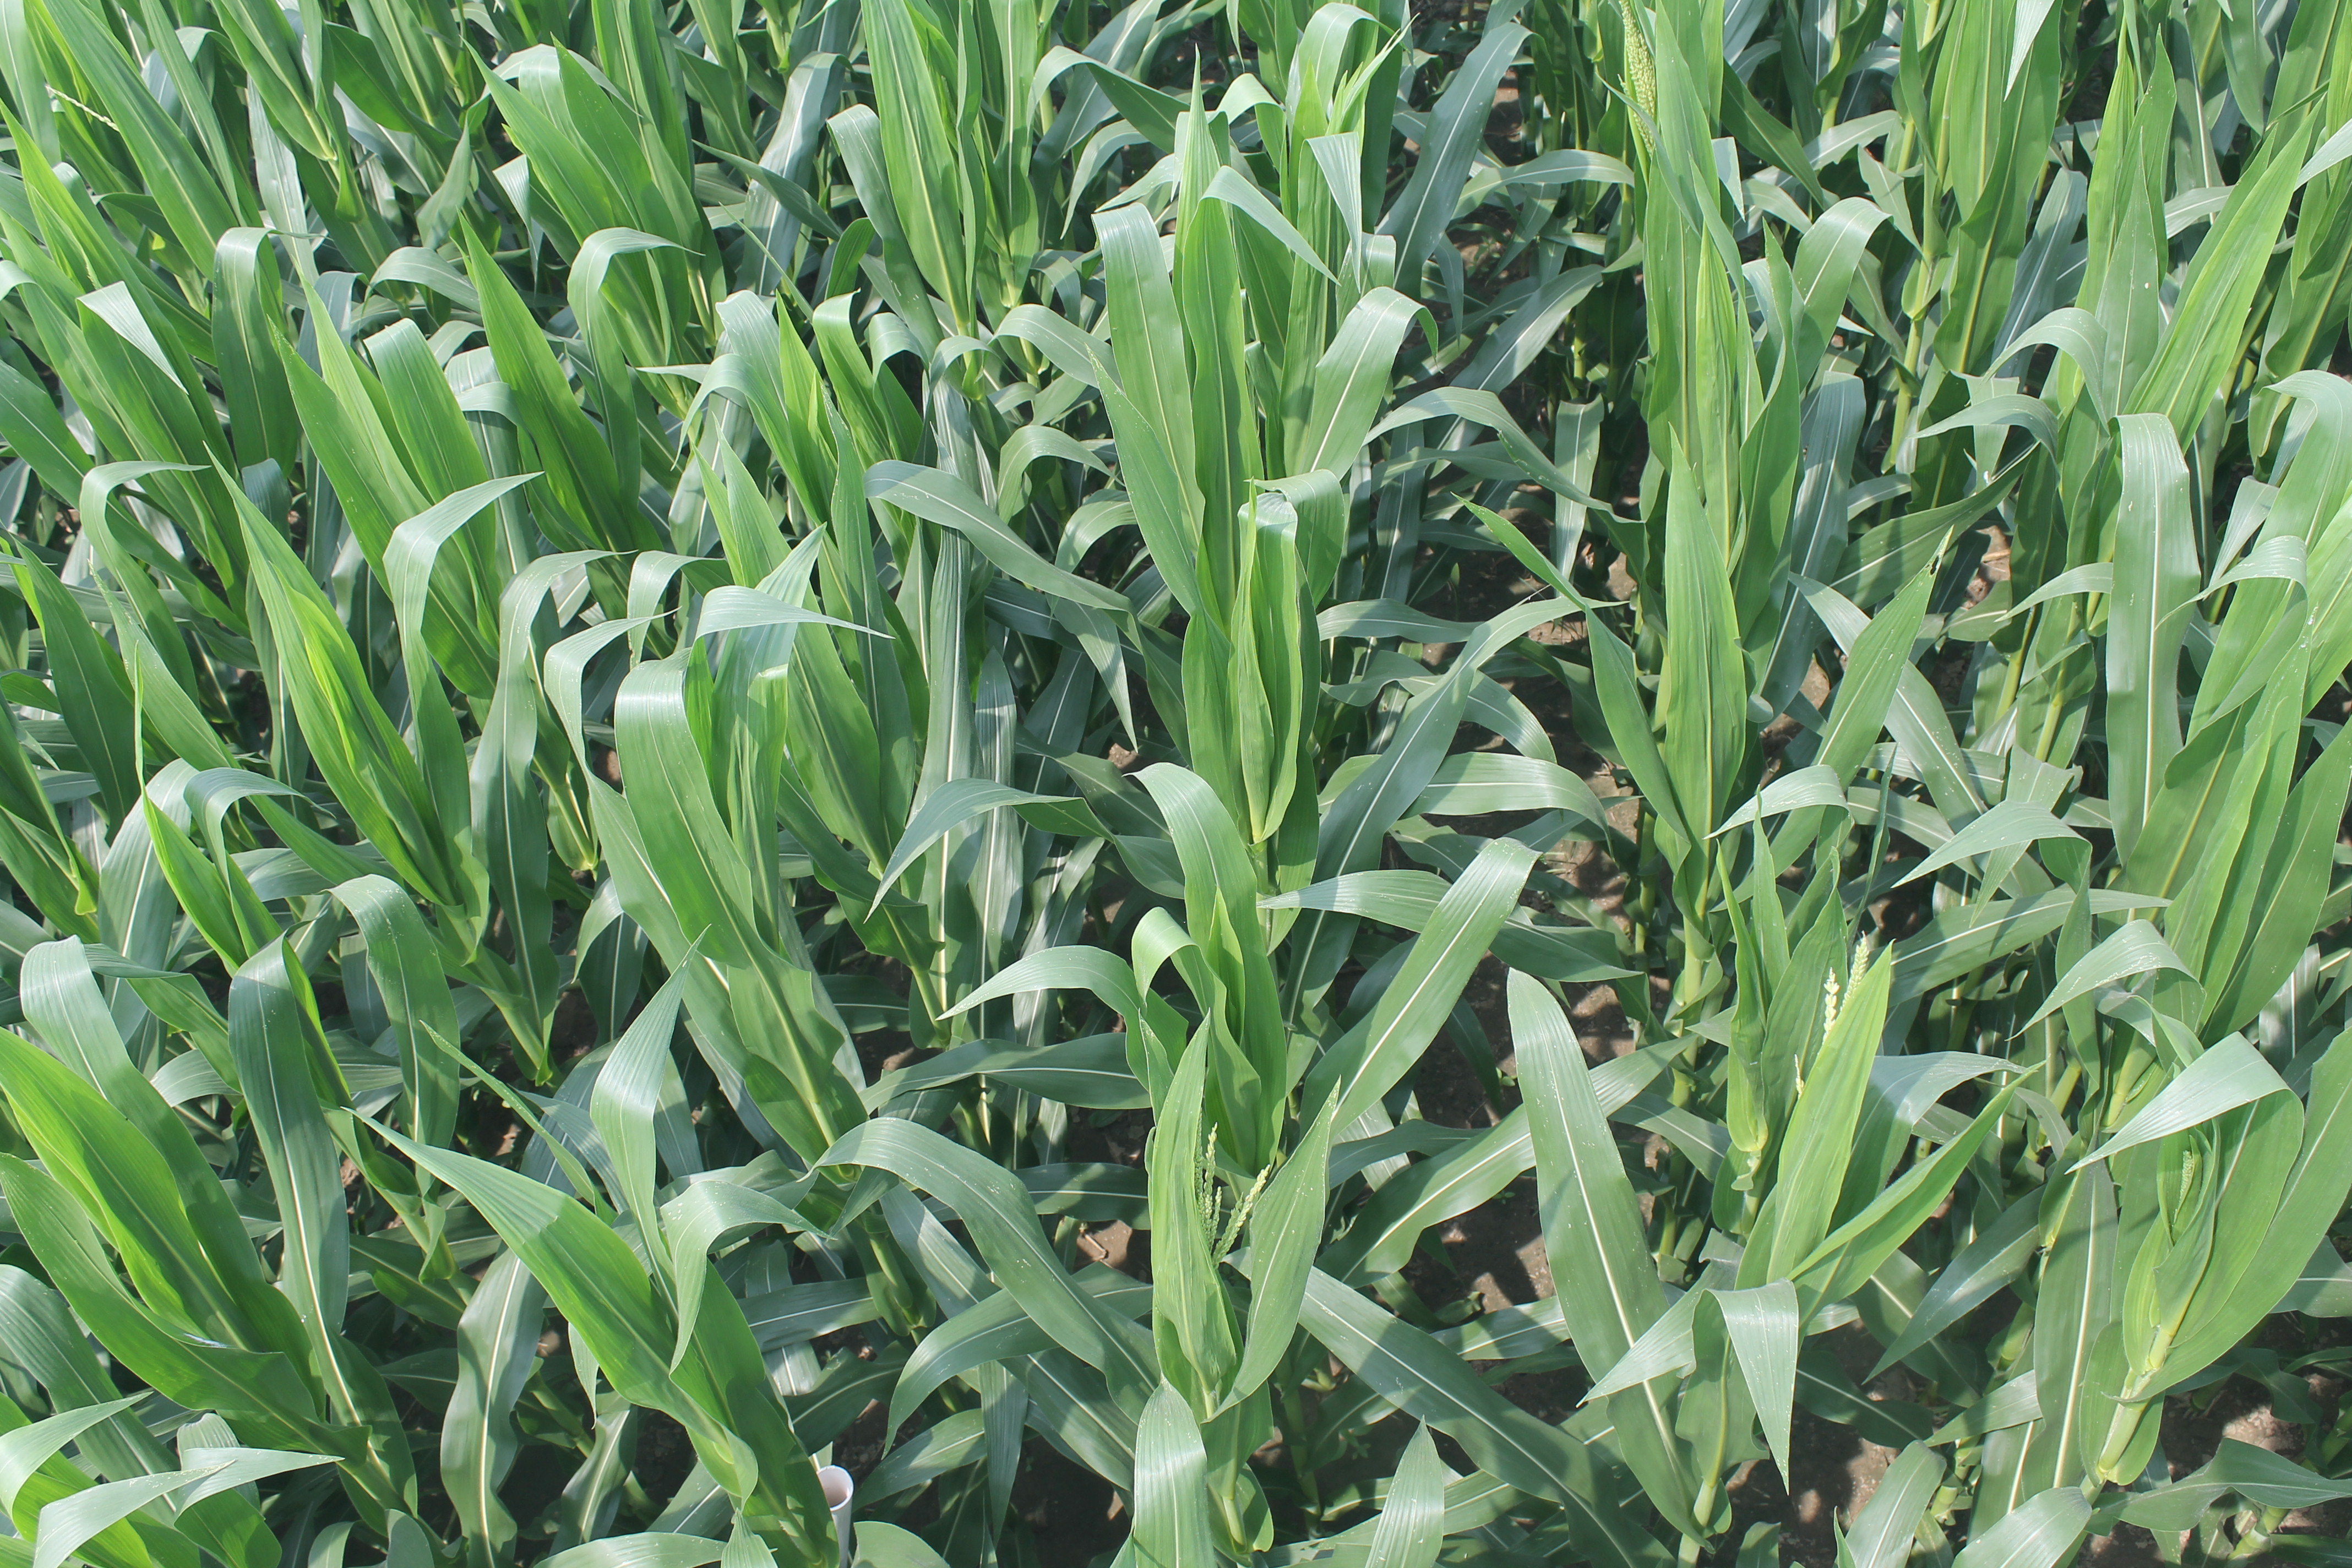Maize: (1197, 1129, 1262, 1263), (1820, 934, 1879, 1029)
